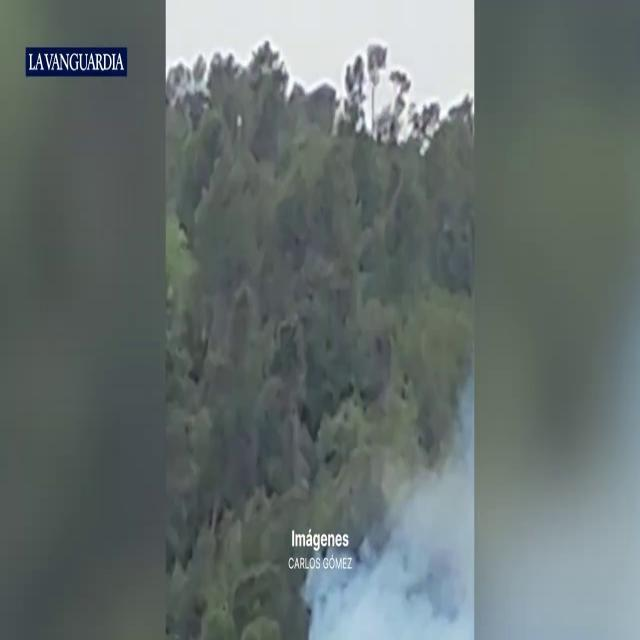Smoke: (372, 329, 474, 635)
